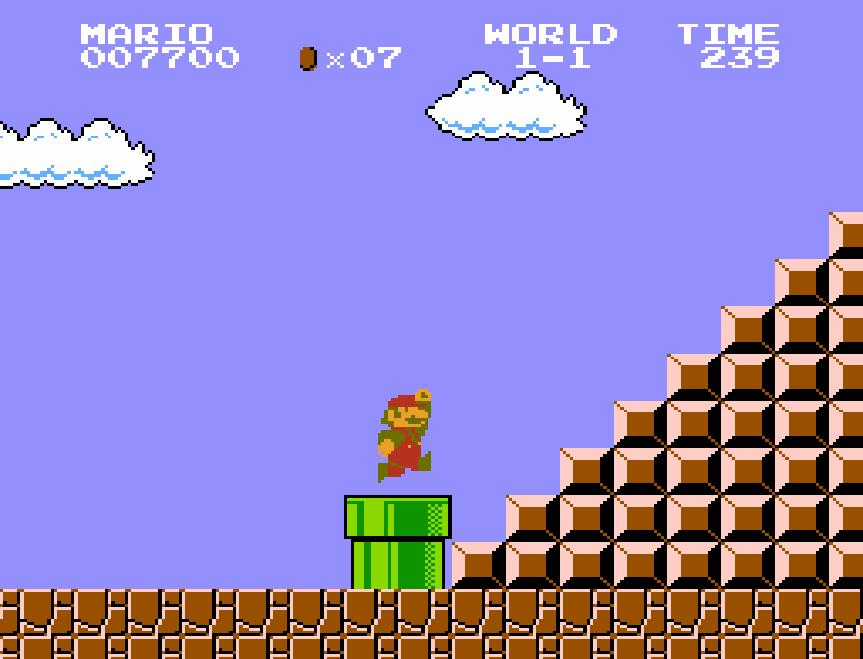big_mario: (376, 387, 434, 485)
